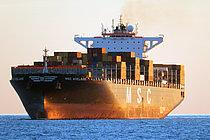Ship: (6, 12, 195, 124)
